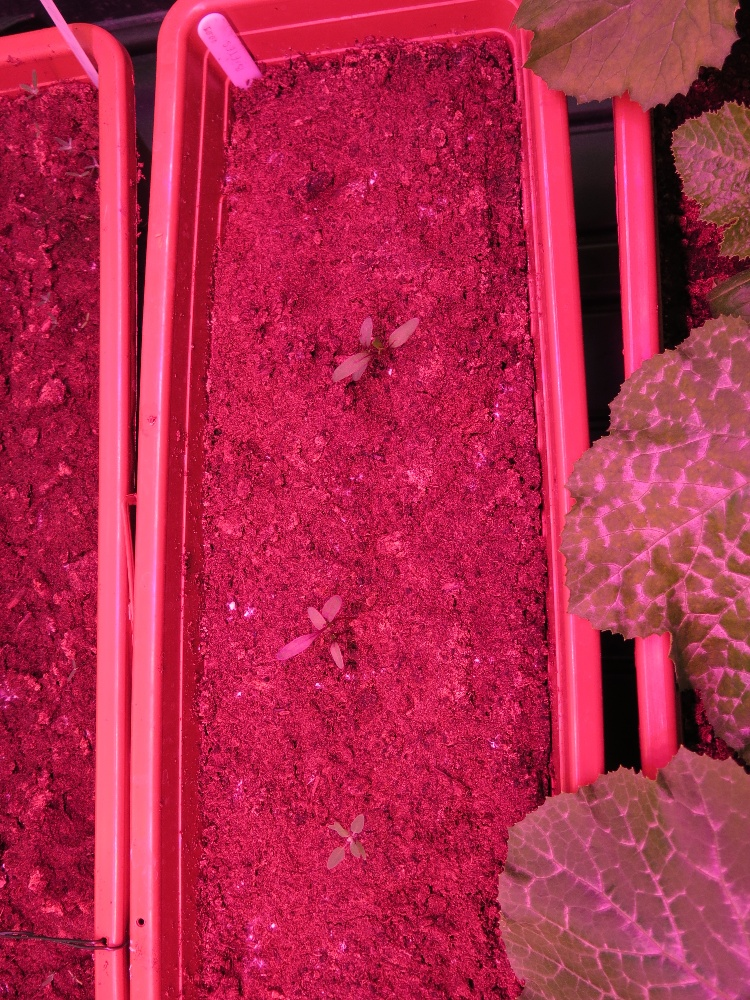crop: (327, 315, 421, 383), (272, 592, 344, 663), (305, 604, 342, 670), (348, 314, 376, 384)
weed: (325, 811, 368, 874)
